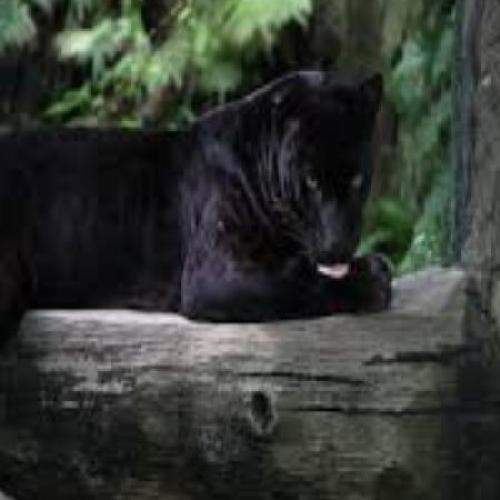panther-endangered: (0, 70, 391, 334)
